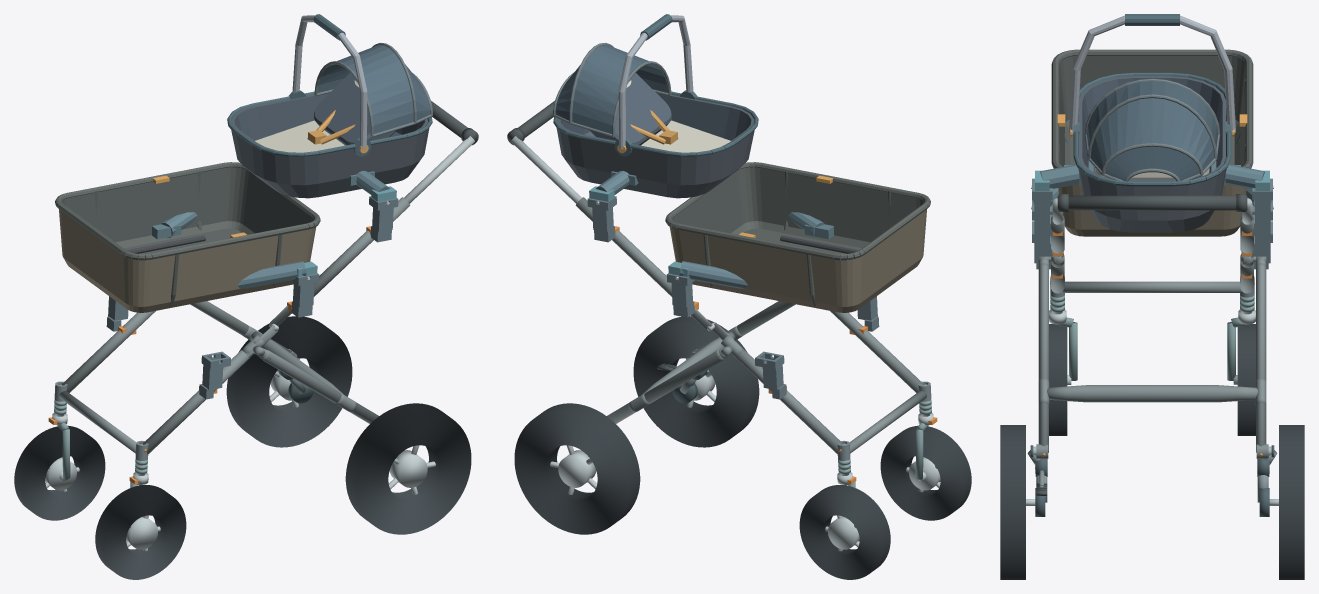
The model's file is D16_w550_state1_wheel_L.glb.
The picture shows the model from 3 angles, left to right: view 1: azimuth 30°, elevation 25°; view 2: azimuth 150°, elevation 25°; view 3: azimuth 270°, elevation 25°; orthographic projection. The views are drawn at different scales.
Visible parts, largest first — view 1: D16_Lower, D16_Upper, RL_tire.002, RR_tire.002, FL_tire.002, FR_tire.002, D16_Lower_Mount_M, V46_rear_leg_-1.003, main_lower_-1.003, main_lower_1.003, main_upper_-1.003, RL_sealed_hub.002 (+10 smaller); view 2: D16_Lower, D16_Upper, RR_tire.002, RL_tire.002, FR_tire.002, FL_tire.002, D16_Lower_Mount_M, V46_rear_leg_1.003, main_lower_1.003, main_lower_-1.003, main_upper_1.003, RR_sealed_hub.002 (+10 smaller); view 3: D16_Upper, D16_Lower, RL_tire.002, RR_tire.002, V46_rearbar.003, round_handle.002, front_fixed_round_tube.002, D16_Upper_Mount_H, FL_tire.002, FR_tire.002, V46_rear_leg_1.003, V46_rear_leg_-1.003 (+8 smaller).
Part boxes in pixels (x1,y1,x2,y2): D16_Lower: (55,162,320,312); D16_Upper: (227,14,432,198); RL_tire.002: (345,403,471,534); RR_tire.002: (226,316,352,447); FL_tire.002: (95,485,186,579); FR_tire.002: (14,425,105,520); D16_Lower_Mount_M: (152,212,317,288); V46_rear_leg_-1.003: (261,349,378,423); main_lower_-1.003: (143,350,253,454); main_lower_1.003: (62,311,155,392); main_upper_-1.003: (314,197,410,296); RL_sealed_hub.002: (389,450,427,487); D16_Lower: (665,162,930,312); D16_Upper: (553,14,758,198); RR_tire.002: (514,403,640,534); RL_tire.002: (633,316,759,447); FR_tire.002: (799,485,890,579); FL_tire.002: (880,425,971,520); D16_Lower_Mount_M: (668,212,833,288); V46_rear_leg_1.003: (607,349,724,423); main_lower_1.003: (732,350,842,454); main_lower_-1.003: (830,311,923,392); main_upper_1.003: (575,197,671,296); RR_sealed_hub.002: (558,450,596,487); D16_Upper: (1069,14,1235,232); D16_Lower: (1051,49,1253,236); RL_tire.002: (1000,425,1025,579); RR_tire.002: (1279,425,1304,579); V46_rearbar.003: (1047,385,1257,402); round_handle.002: (1057,195,1247,210); front_fixed_round_tube.002: (1063,281,1241,292); D16_Upper_Mount_H: (1031,161,1273,190); FL_tire.002: (1049,324,1067,435); FR_tire.002: (1237,324,1255,435); V46_rear_leg_1.003: (1256,263,1266,452); V46_rear_leg_-1.003: (1038,263,1048,452).
Bounding box in the file's own units: 1.19 × 1.4 × 0.7071.
